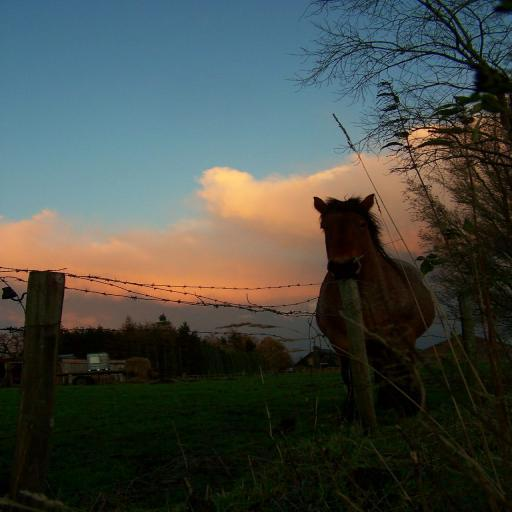horse: (315, 192, 435, 422)
